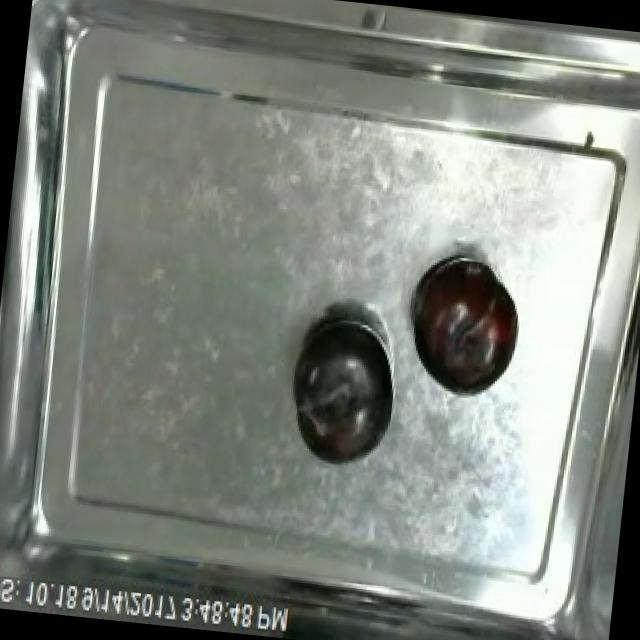Fruit: (276, 304, 406, 476), (398, 247, 530, 403)
